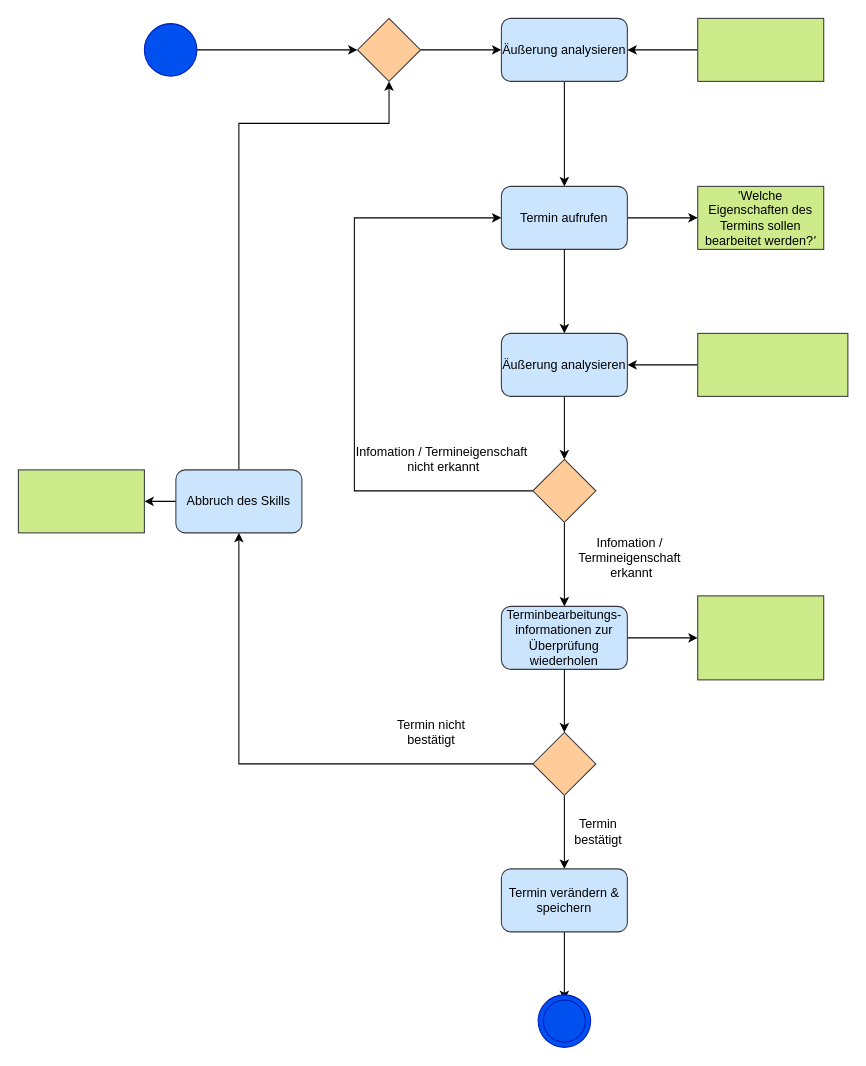
The diagram is 866 pixels wide and 1066 high, and some of its shapes have lost their labels. The centre of each missing label's shape, as x and y in pixels:
' Termineigenschaft zu Termineigenschaft(new) ändern': [772,364]
' Termininformationen Bestätigen Sie mit JA um den Termin zu ändern': [760,637]
'Alexa Termin bearbeiten': [760,49]
'Termin wurde nicht verändert': [80,501]
